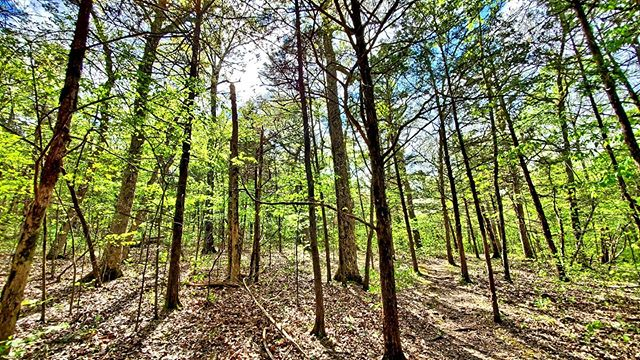vegetation: (1, 1, 637, 352)
